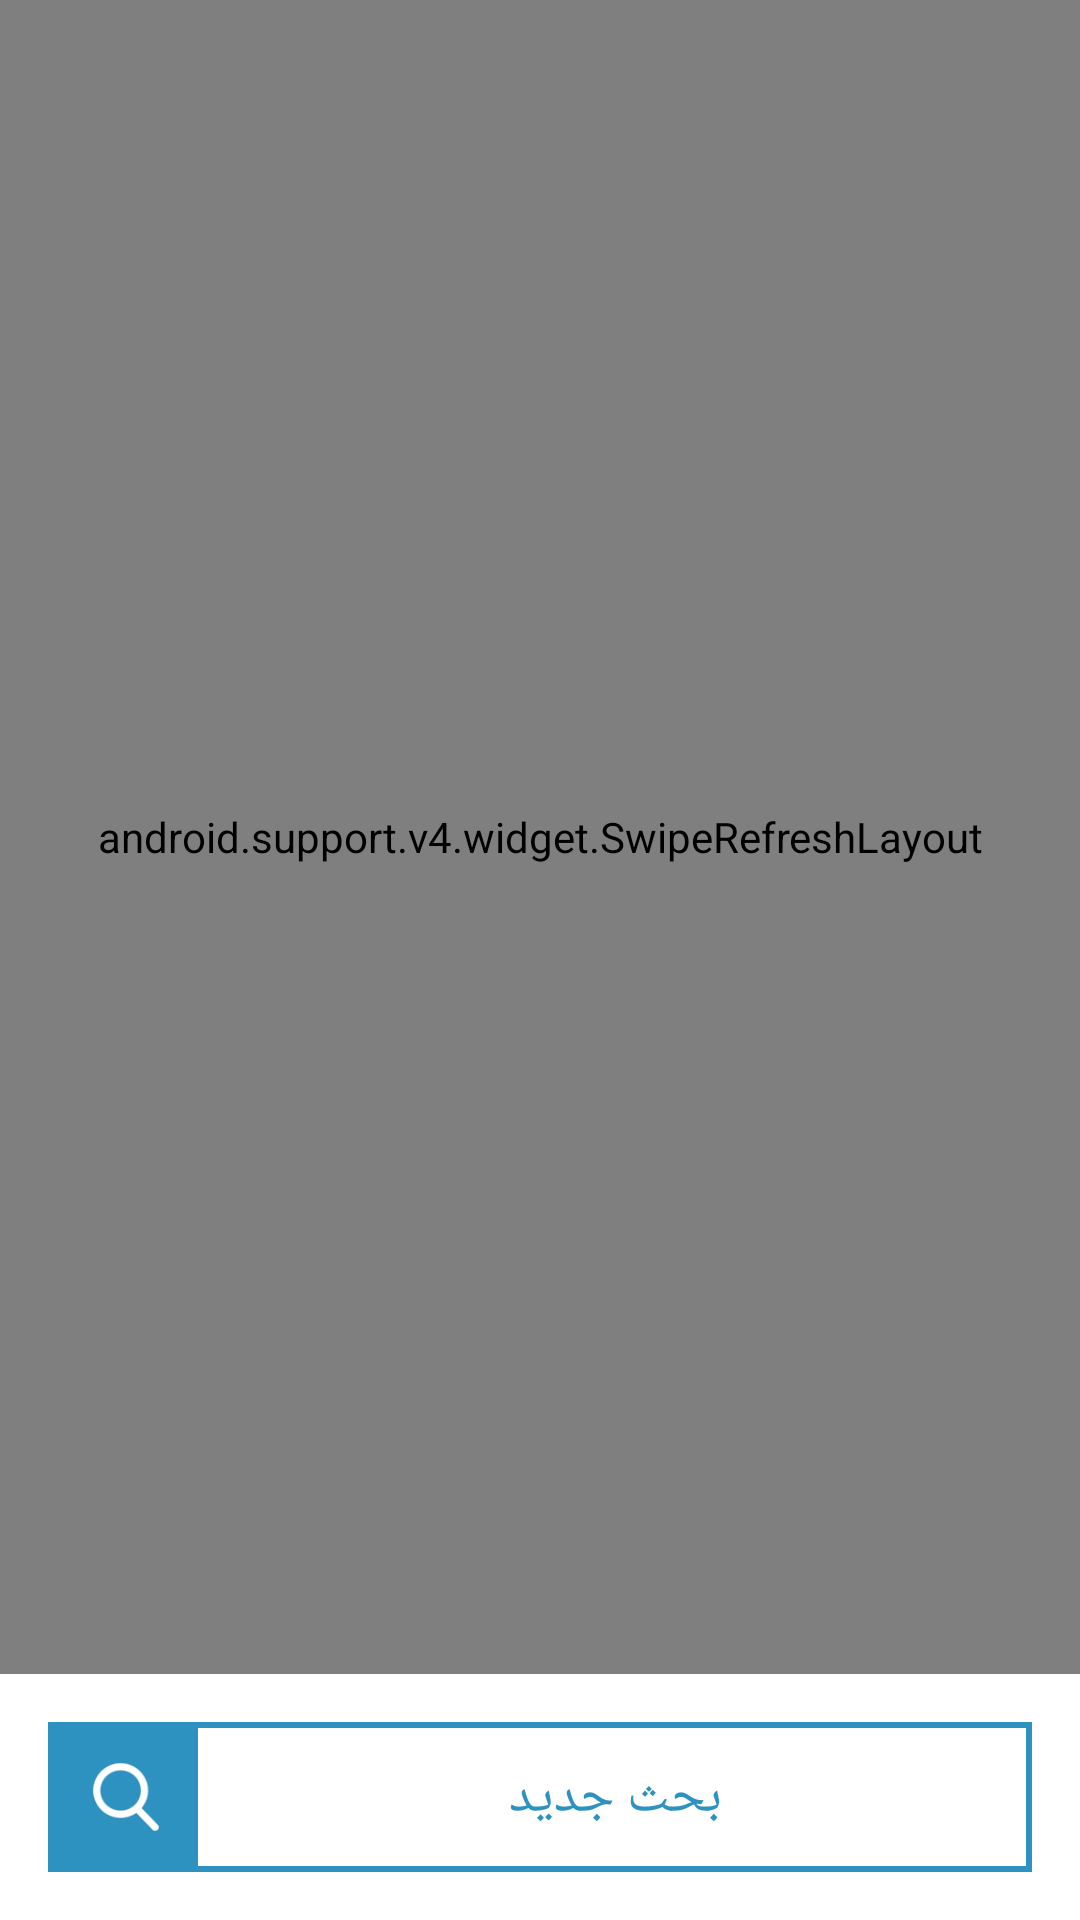

Named icons in this screenshot (1080 × 1920) and their centers, [x,y]:
search: [126,1797]
